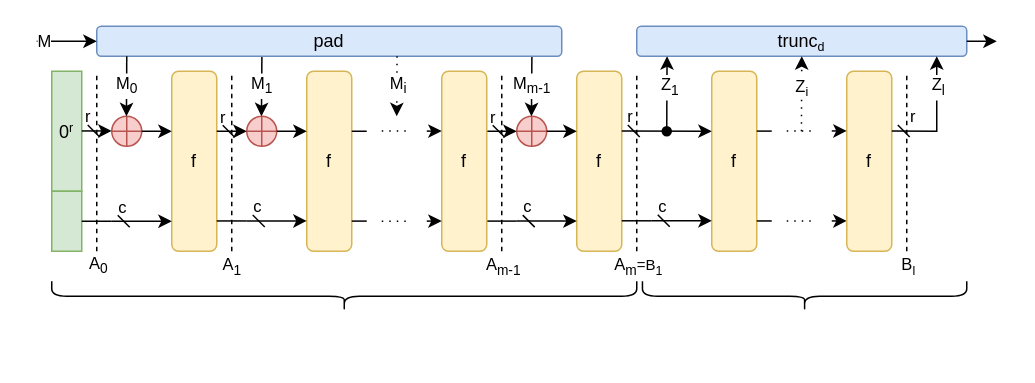
The diagram is 1035 pixels wide and 383 high, and some of its shapes have lost their labels. The shapes that lost their labels are listed below. From the top down, each one's centre as x and y in pixels, then its label:
[66,220]: 0 c
[343,295]: absorbieren
[804,295]: ausquetschen
